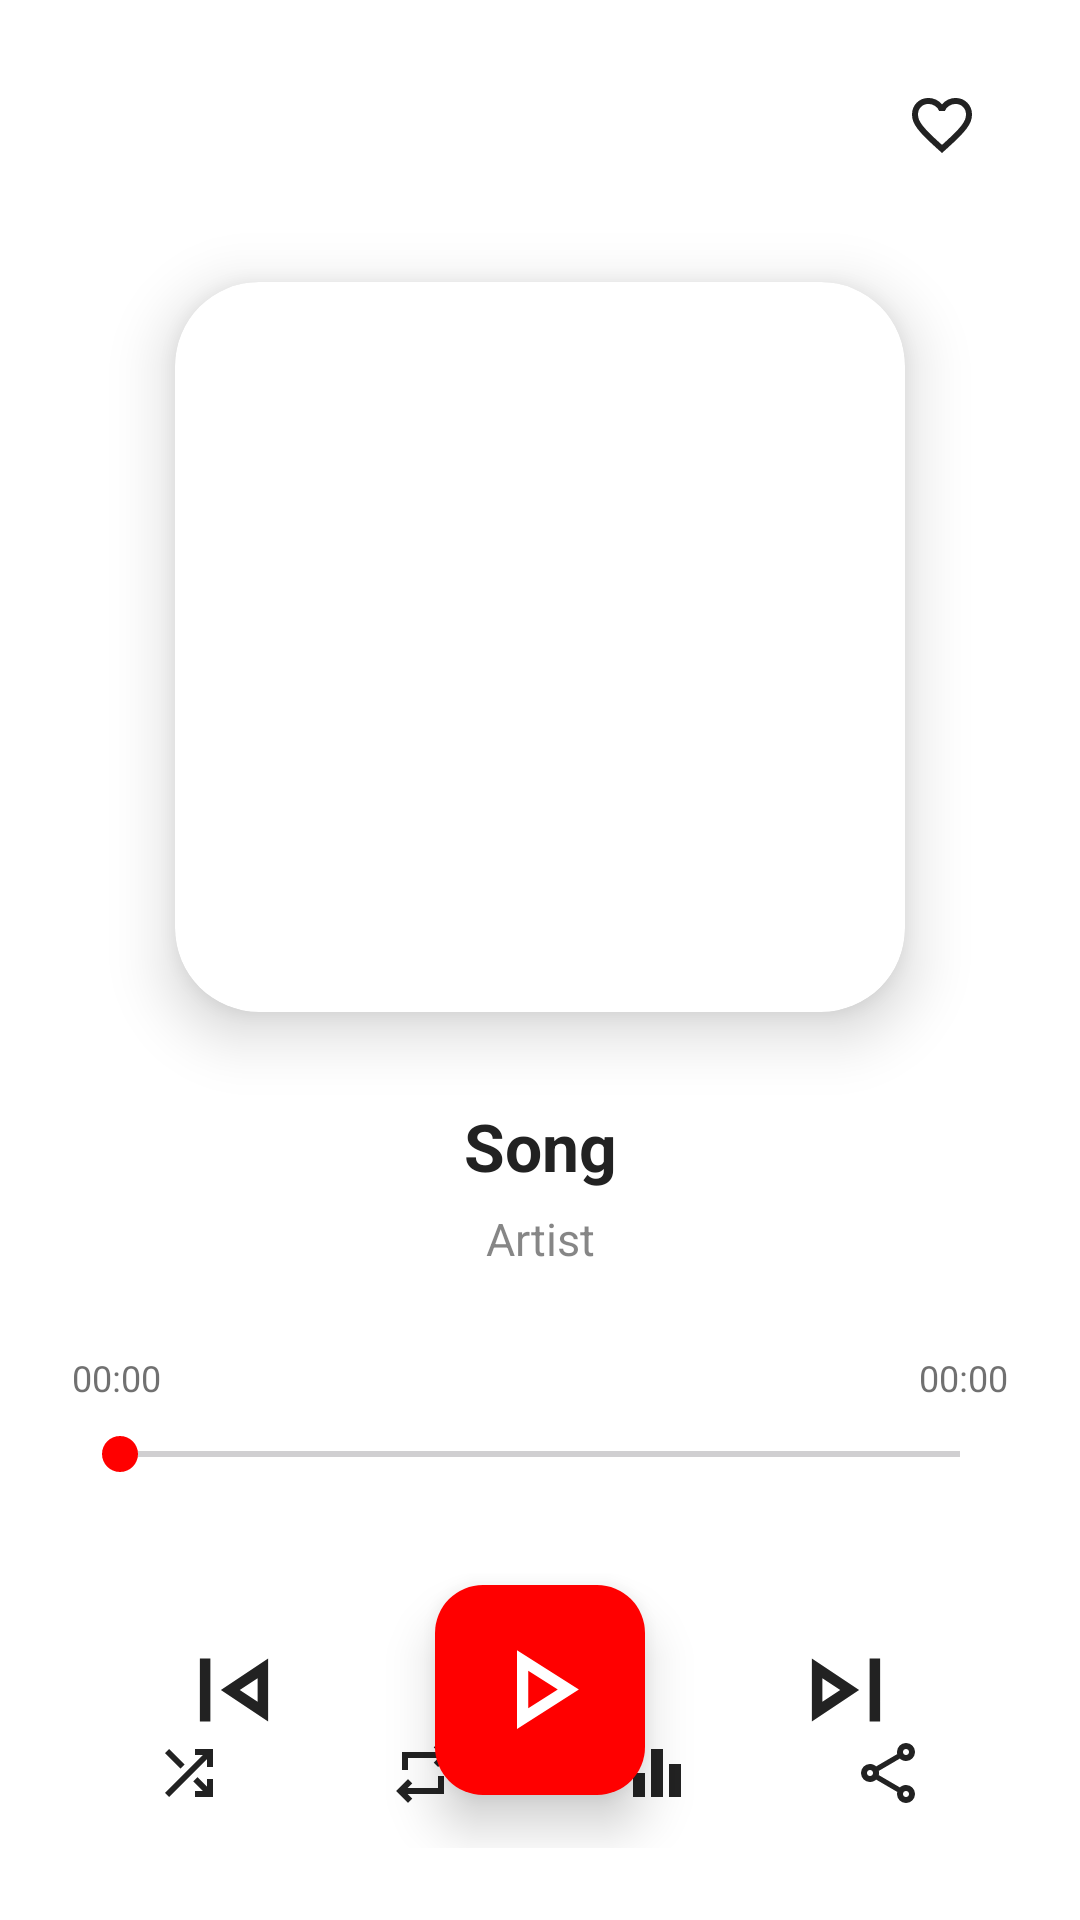

Icon bounding boxes for this 1080×1920 phone screenshot, format rect(x1, y1, x2, y2):
Favourite: rect(912, 98, 972, 153)
Next: rect(811, 1658, 881, 1722)
Play Pause: rect(435, 1585, 645, 1795)
Share: rect(861, 1743, 915, 1803)
Shuffle: rect(165, 1749, 213, 1797)
